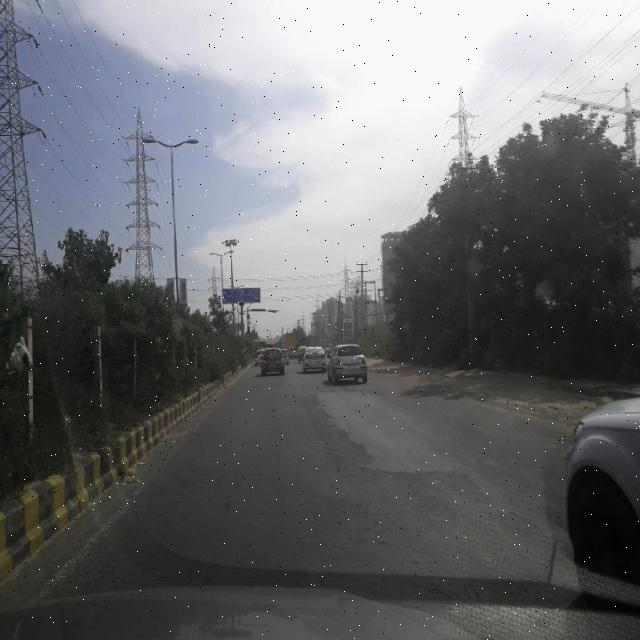D20: (106, 410, 532, 599)
D44: (40, 441, 172, 594)
